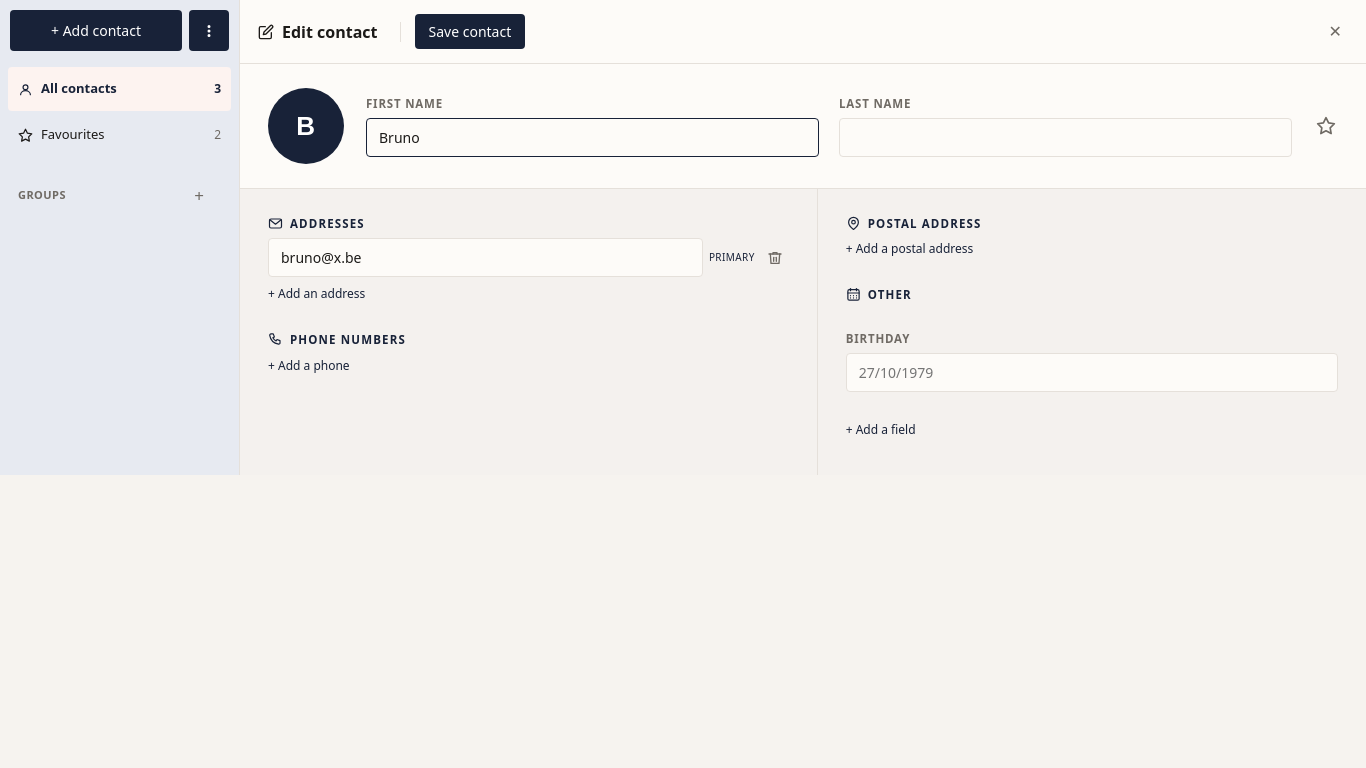
ContactsLayout › a card that moved under the open editor › offers to reload when the write is refused as stale
Check: the field labelled "First name" holds "Bruno", box [366,118,819,157]
Click the button "Save contact".
click(470, 32)  # box [414,14,525,49]
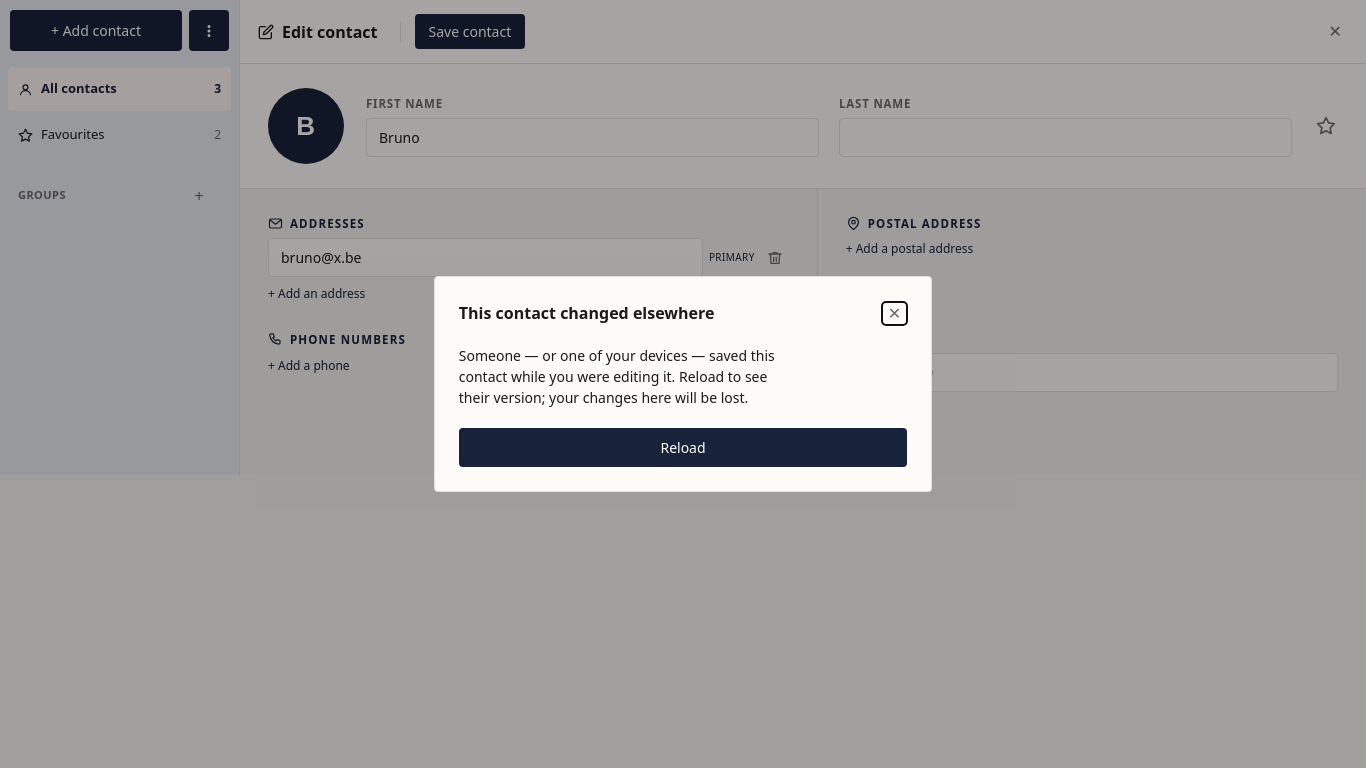
Check: the text "This contact changed elsewhere" is shown, box [459,301,714,325]
Check: the button "Reload" is shown, box [459,428,907,467]
